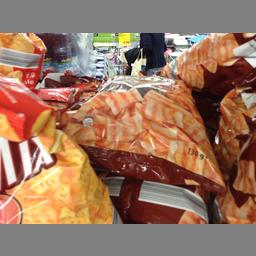chips: (67, 66, 232, 188), (153, 33, 255, 89)
